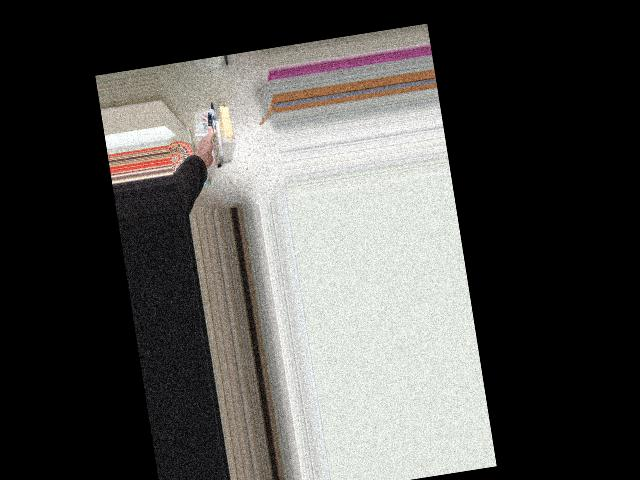cheese: (169, 99, 244, 177)
